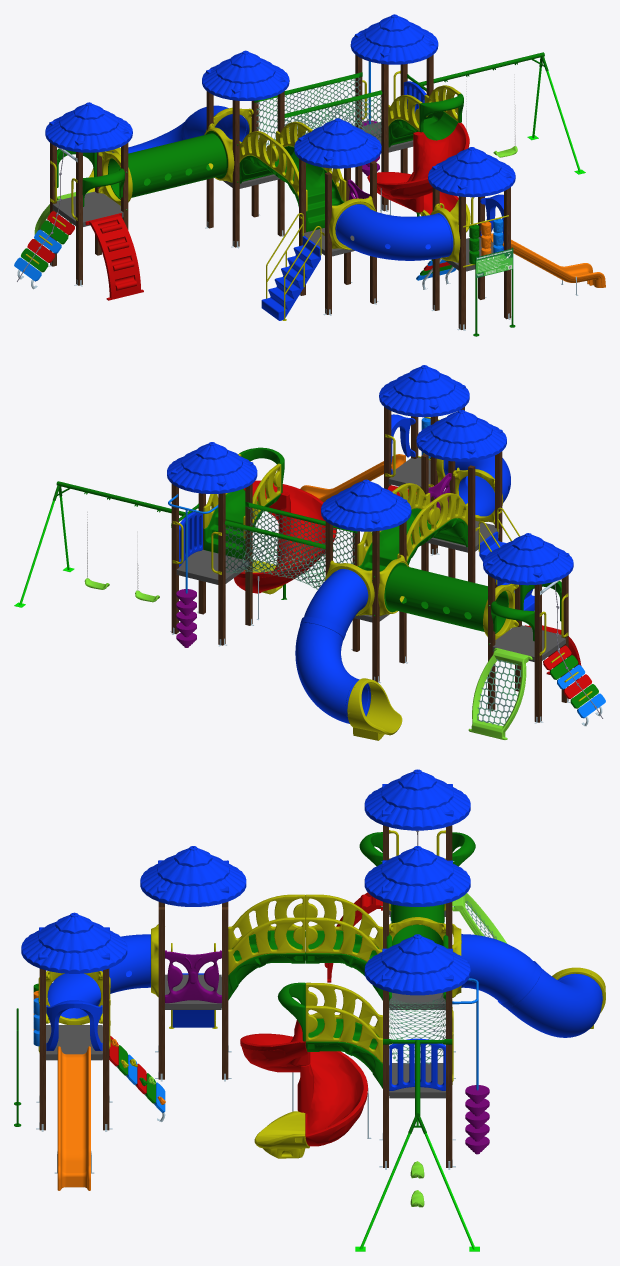
3 views of the same model, one above another, from view 1: azimuth 30°, elevation 25°; view 2: azimuth 150°, elevation 25°; view 3: azimuth 270°, elevation 25° (orthographic). The views are drawn at different scales.
Visible parts, largest first — view 1: object 6, object 24, TOLDO M2.002, TOLDO M2.004, TOLDO M2.003, TOLDO M2.001, TOLDO M2, object 12, object 19, object 35, PLATAFORMA M1.008, COLUNA MAD PLAST 9 X 9CM.008 (+24 smaller); view 2: object 6, object 24, object 35, TOLDO M2.003, TOLDO M2, TOLDO M2.001, TOLDO M2.002, TOLDO M2.004, object 19, object 40, object 12, PLATAFORMA M1 (+23 smaller); view 3: object 6, object 24, object 12, TOLDO M2.002, TOLDO M2.004, TOLDO M2.001, TOLDO M2, TOLDO M2.003, object 19, LATERAL M1.001, object 35, LATERAL M1.005 (+18 smaller).
Boxes of the visible parts, x1=… form: object 6: x1=108, y1=81, x2=503, y2=320; object 24: x1=85, y1=52, x2=548, y2=300; TOLDO M2.002: x1=350, y1=14, x2=438, y2=64; TOLDO M2.004: x1=45, y1=102, x2=132, y2=152; TOLDO M2.003: x1=294, y1=118, x2=381, y2=168; TOLDO M2.001: x1=428, y1=147, x2=515, y2=197; TOLDO M2: x1=202, y1=50, x2=289, y2=100; object 12: x1=56, y1=70, x2=605, y2=295; object 19: x1=98, y1=107, x2=460, y2=262; object 35: x1=42, y1=77, x2=381, y2=230; PLATAFORMA M1.008: x1=52, y1=191, x2=123, y2=226; COLUNA MAD PLAST 9 X 9CM.008: x1=232, y1=100, x2=239, y2=247; object 6: x1=179, y1=414, x2=534, y2=723; object 24: x1=53, y1=480, x2=581, y2=740; object 35: x1=225, y1=507, x2=521, y2=725; TOLDO M2.003: x1=416, y1=409, x2=506, y2=461; TOLDO M2: x1=321, y1=479, x2=411, y2=531; TOLDO M2.001: x1=379, y1=365, x2=469, y2=417; TOLDO M2.002: x1=167, y1=442, x2=257, y2=493; TOLDO M2.004: x1=483, y1=533, x2=573, y2=585; object 19: x1=324, y1=458, x2=518, y2=642; object 40: x1=468, y1=581, x2=603, y2=739; object 12: x1=172, y1=417, x2=562, y2=644; PLATAFORMA M1: x1=176, y1=550, x2=249, y2=584; object 6: x1=46, y1=904, x2=602, y2=1090; object 24: x1=240, y1=892, x2=605, y2=1158; object 12: x1=33, y1=860, x2=454, y2=1190; TOLDO M2.002: x1=364, y1=934, x2=470, y2=995; TOLDO M2.004: x1=364, y1=769, x2=470, y2=830; TOLDO M2.001: x1=21, y1=912, x2=127, y2=973; TOLDO M2: x1=364, y1=846, x2=470, y2=906; TOLDO M2.003: x1=140, y1=846, x2=246, y2=906; object 19: x1=46, y1=858, x2=461, y2=1024; LATERAL M1.001: x1=228, y1=917, x2=305, y2=974; object 35: x1=389, y1=901, x2=496, y2=1064; LATERAL M1.005: x1=305, y1=1005, x2=382, y2=1063.
Bounding box in the file's own units: 10.97 × 3.47 × 8.51.
25 materials, 4 textured.
